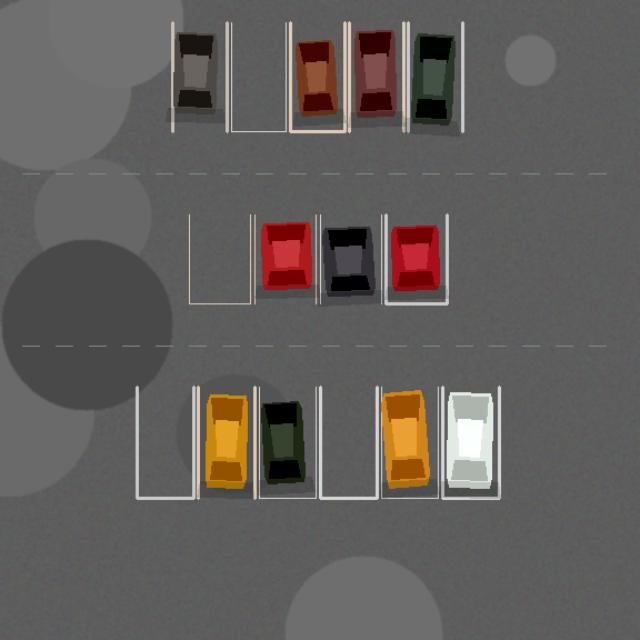space-empty: (320, 387, 377, 498), (137, 387, 193, 498), (231, 22, 286, 131), (189, 214, 250, 303)
space-occupied: (259, 387, 316, 498), (381, 387, 438, 498), (442, 387, 499, 498), (198, 387, 254, 498), (172, 22, 227, 131), (290, 22, 344, 131), (349, 22, 403, 131), (408, 22, 462, 131), (254, 214, 316, 303), (320, 214, 381, 303), (386, 214, 447, 303)
